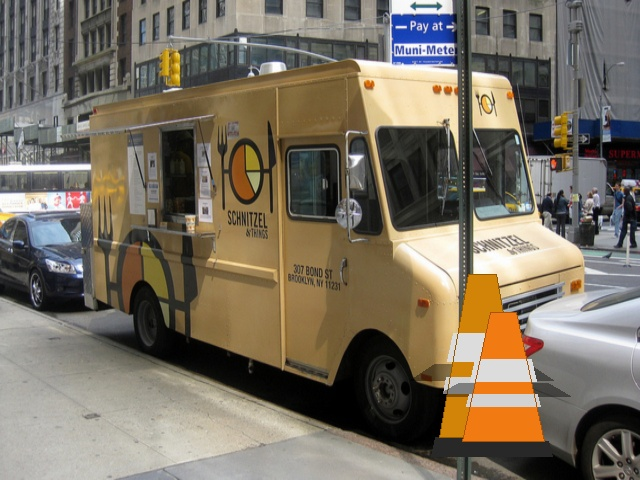traffic-cone: (431, 274, 533, 456), (454, 312, 552, 456)
